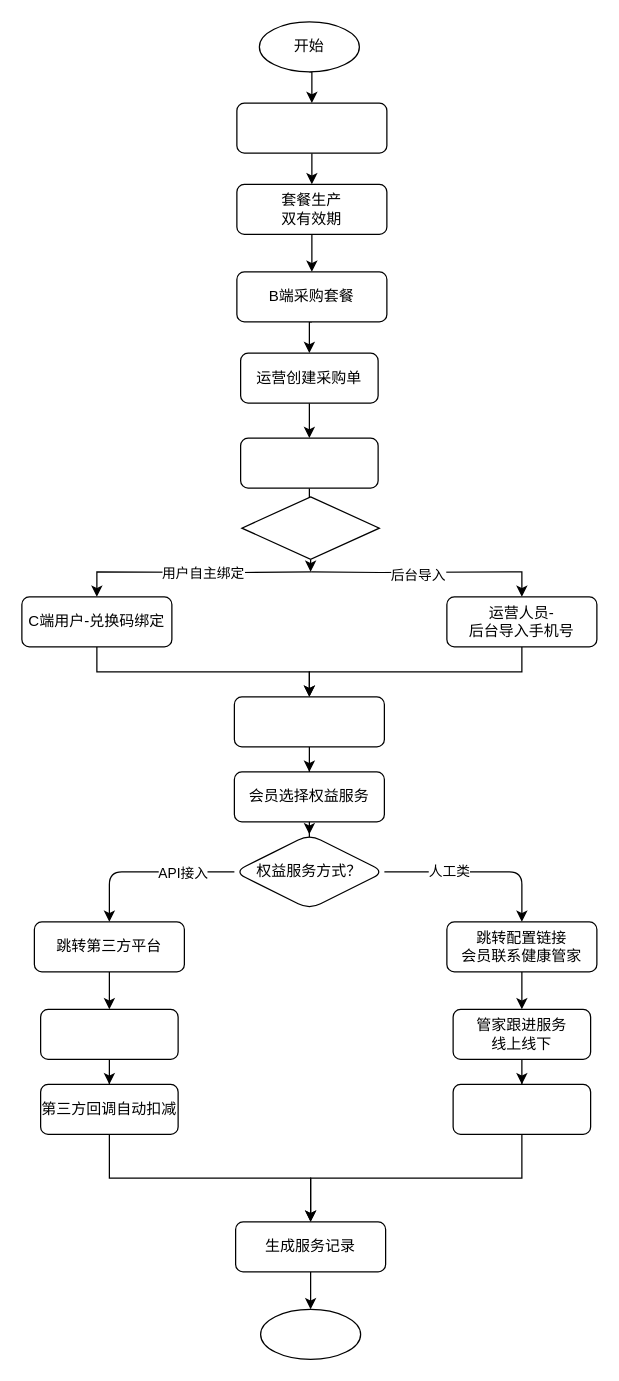
This 619x1381 diagram has some shape labels left out. The shapes that lost their labels are listed below. From the top down, each one's box as (x1, y1, x2, y2) in pixels, then its label:
(236, 102, 387, 153): 权益预置 运营仅查看
(239, 437, 378, 488): 系统自动生成套餐卡
(241, 496, 379, 559): 绑定方式？
(233, 696, 384, 747): 激活 实名认证
(39, 1008, 178, 1059): 用户完成问诊服务
(452, 1083, 591, 1134): 服务完成 管家手动扣减
(259, 1308, 361, 1359): 结束
